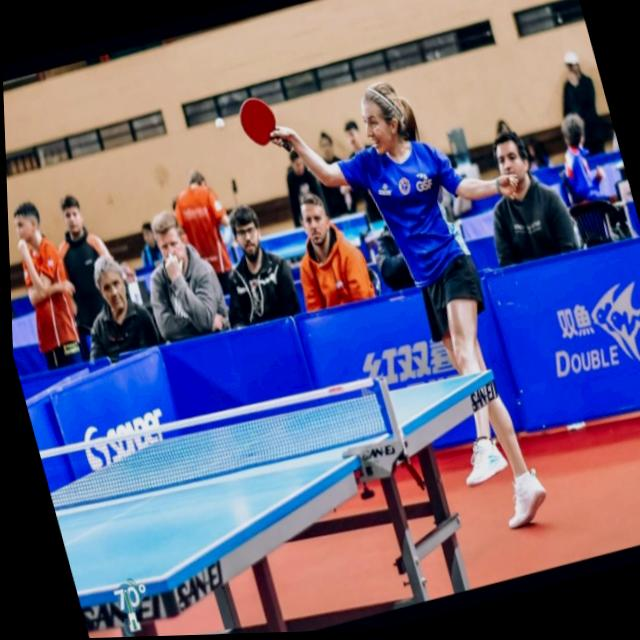TT Net: (38, 371, 407, 515), (229, 210, 372, 267)
TT Racket: (231, 89, 280, 154)
TT Table: (50, 367, 491, 594)
